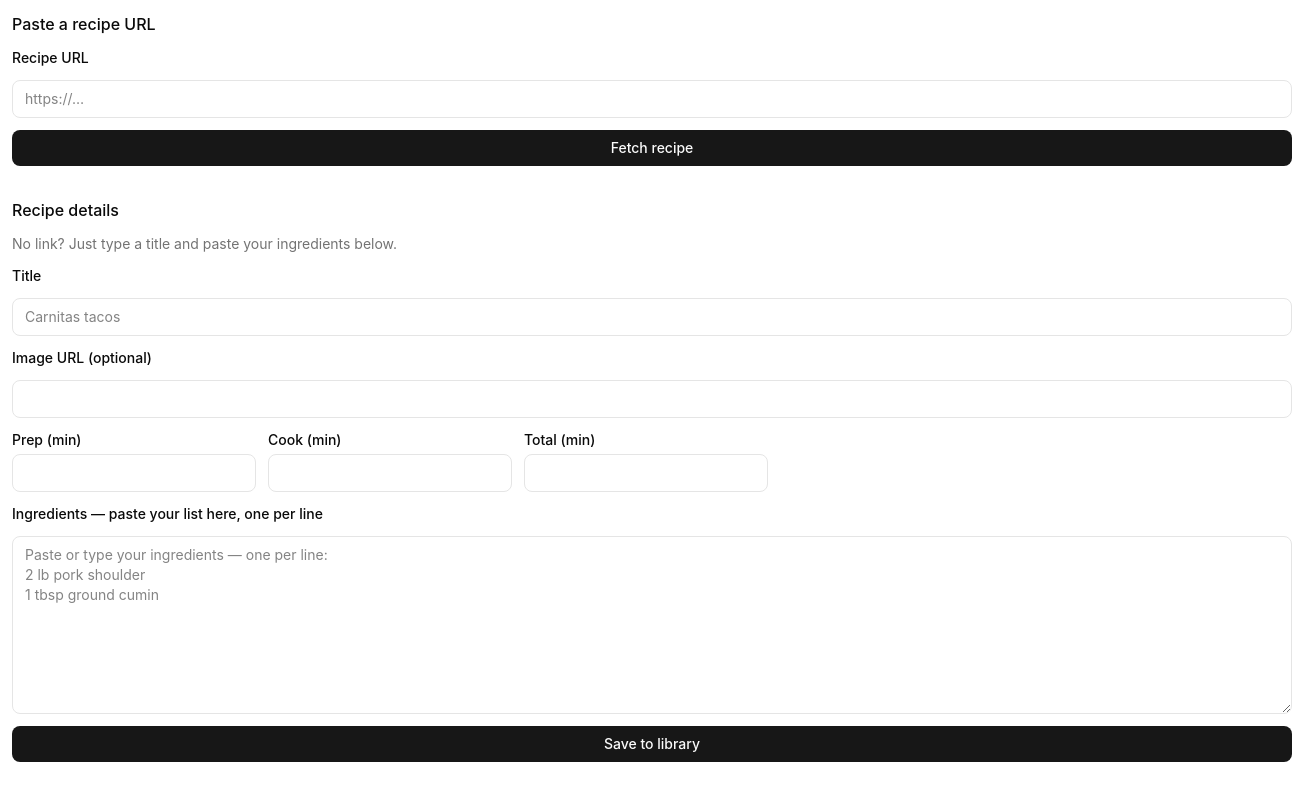
it: RecipeIngestForm › populates the editable fields from a successful fetch
Type "https://example.com/tacos" into the field labelled "Recipe URL" at (652, 99), box [12,80,1292,118]
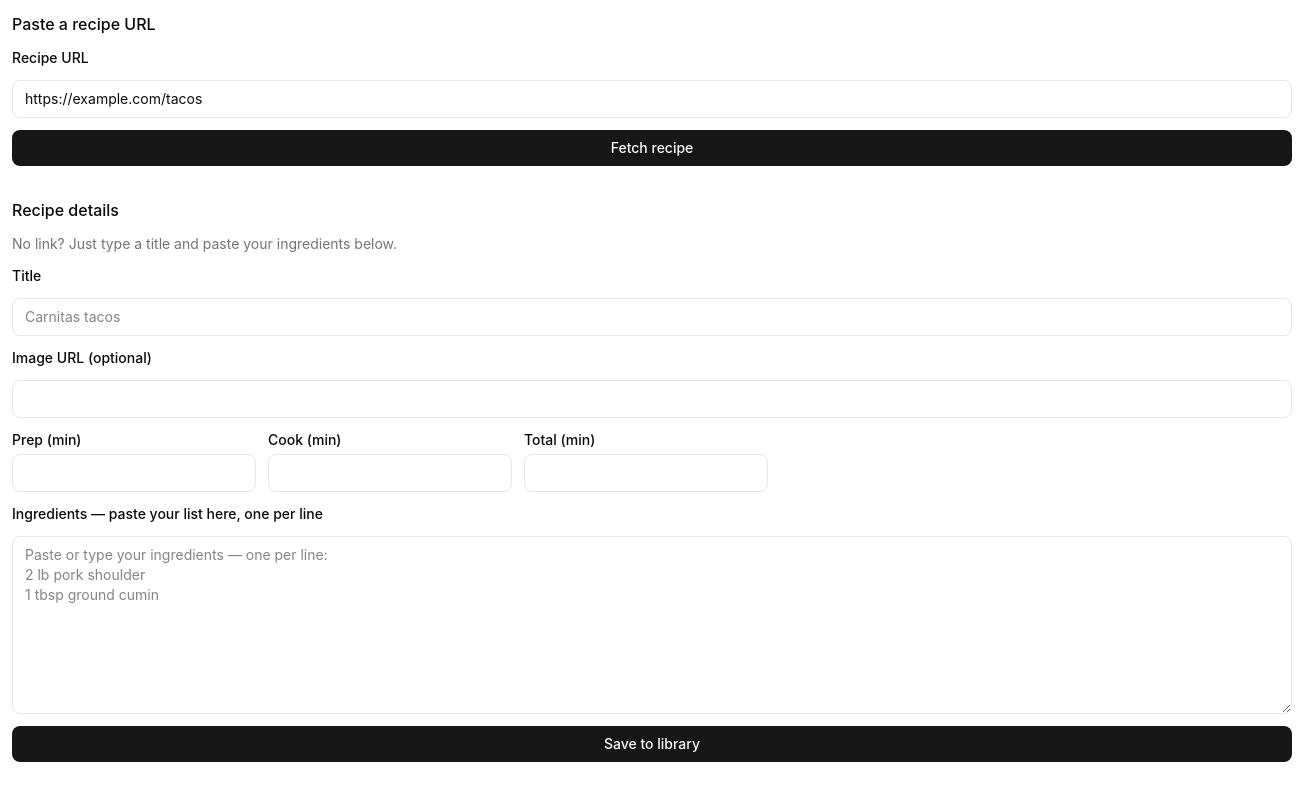
Click the button "Fetch recipe" at (652, 148), box [12,130,1292,166]
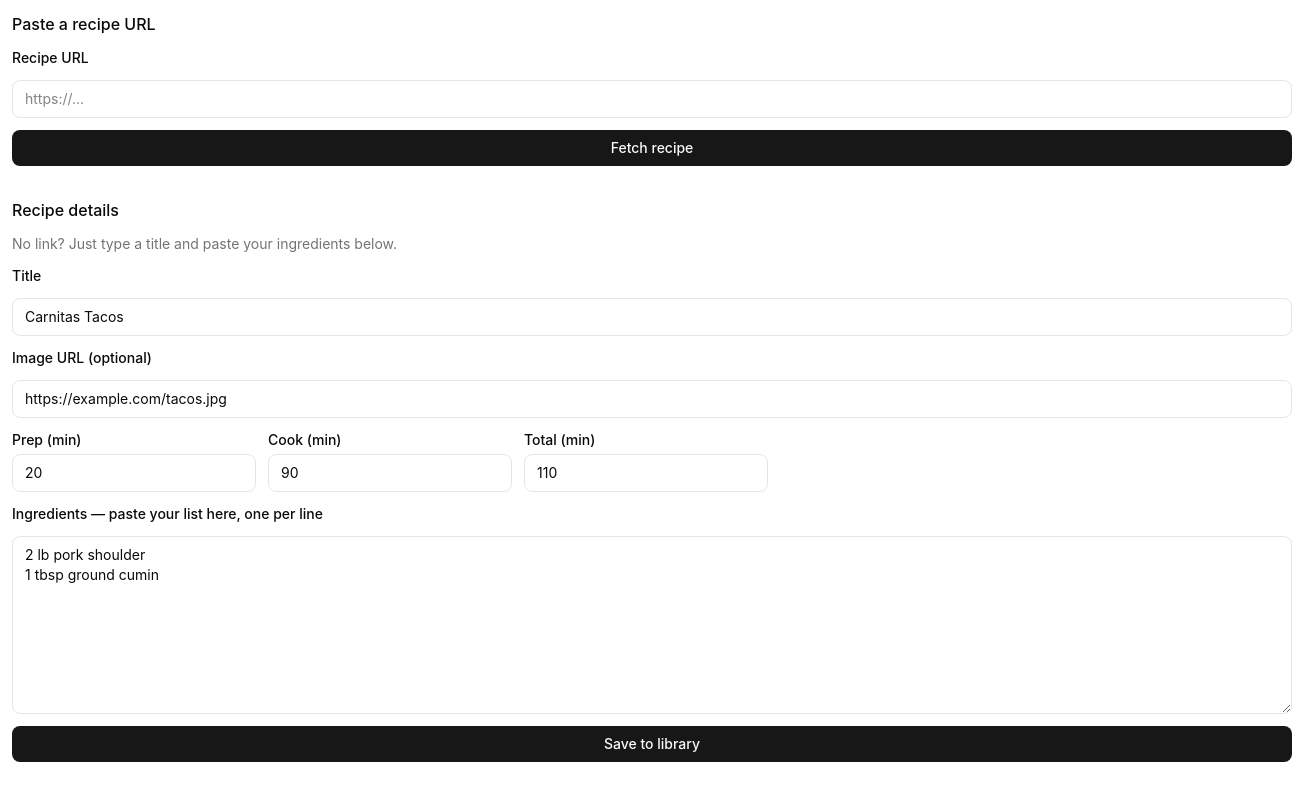
Expected: the field labelled "Title" holds "Carnitas Tacos", [12,298,1292,336]
Expected: the number field labelled "Prep (min)" holds "20", [12,454,256,492]
